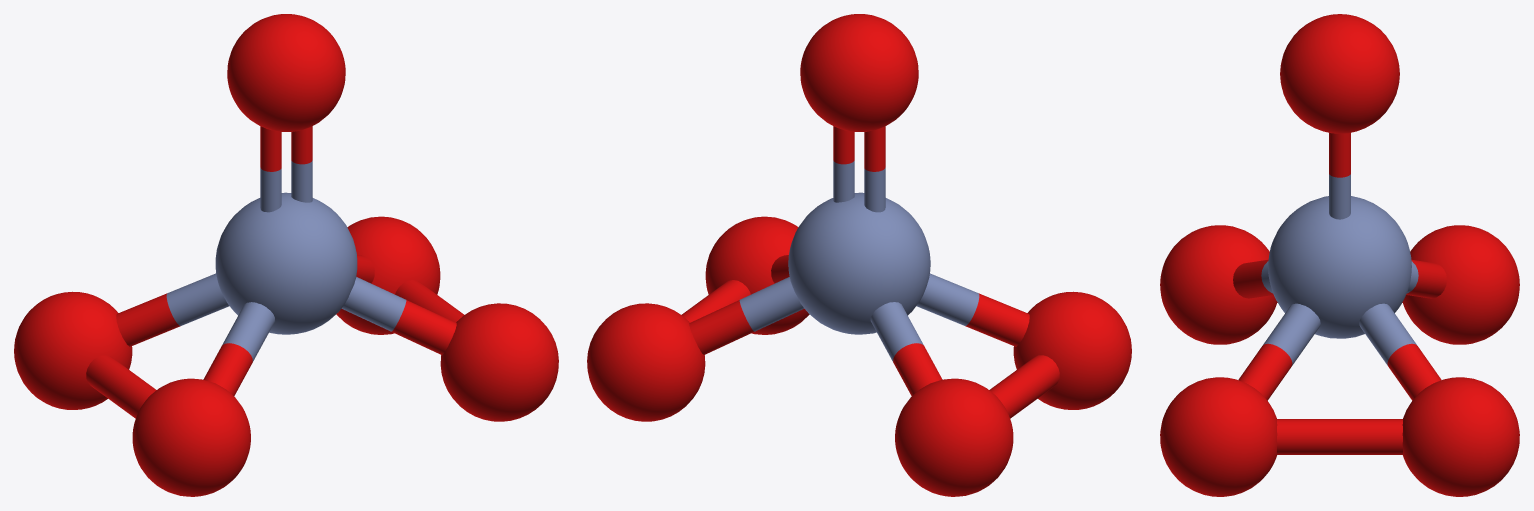
3 renders of one model, left to right at view 1: azimuth 30°, elevation 25°; view 2: azimuth 150°, elevation 25°; view 3: azimuth 270°, elevation 25°, orthographic.
Visible parts, largest first — view 1: Sphere010; view 2: Sphere010; view 3: Sphere010.
Boxes of the visible parts, bbox=[...] form: Sphere010: bbox=[14, 14, 558, 496]; Sphere010: bbox=[587, 14, 1131, 496]; Sphere010: bbox=[1160, 14, 1519, 496].
Size of the model in its own units: 39.99 by 36.4 by 29.99.
